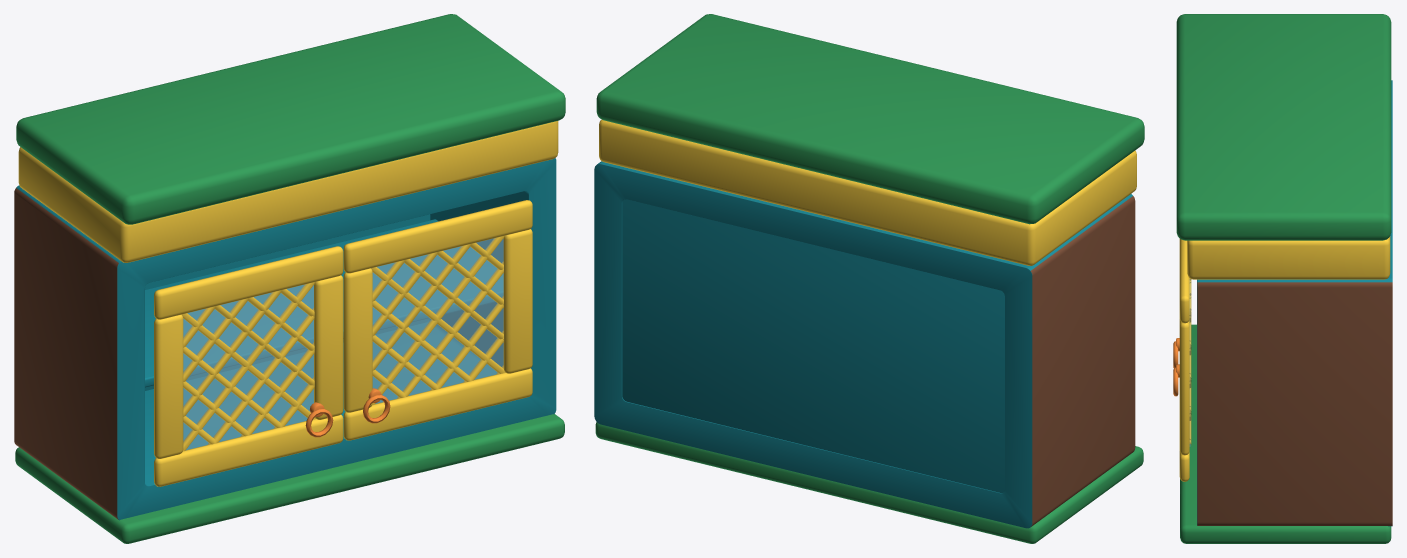
The model's file is armario_parede_trelica_colonial_mata.glb.
3 views of the same model, side by side, from view 1: azimuth 30°, elevation 25°; view 2: azimuth 150°, elevation 25°; view 3: azimuth 270°, elevation 25° (orthographic). The views are drawn at different scales.
Parts seen in each view (by area): view 1: armario_parede_trelica_colonial_mata, porta_2, porta_1; view 2: armario_parede_trelica_colonial_mata; view 3: armario_parede_trelica_colonial_mata, porta_2.
Part boxes in pixels (left/top/right/bottom): armario_parede_trelica_colonial_mata: left=14, top=14, right=565, bottom=543; porta_2: left=343, top=200, right=532, bottom=440; porta_1: left=154, top=246, right=343, bottom=486; armario_parede_trelica_colonial_mata: left=594, top=14, right=1144, bottom=543; armario_parede_trelica_colonial_mata: left=1176, top=14, right=1392, bottom=543; porta_2: left=1173, top=238, right=1191, bottom=481.
Size of the model in its own units: 0.798 by 0.6 by 0.3612.
Materials: 2 (1 with a texture image).
